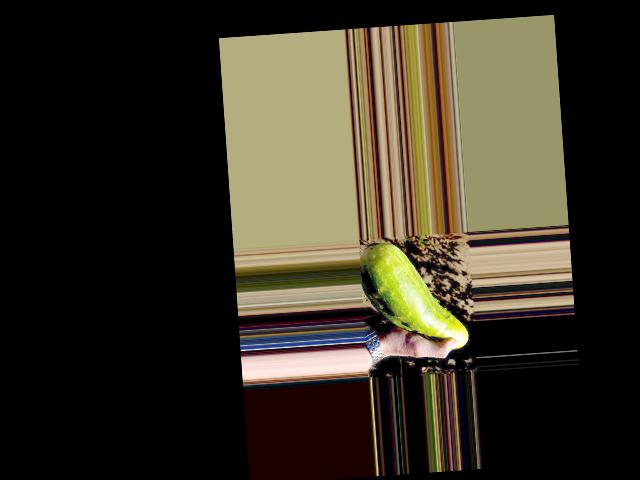cucumber: (357, 236, 469, 355)
